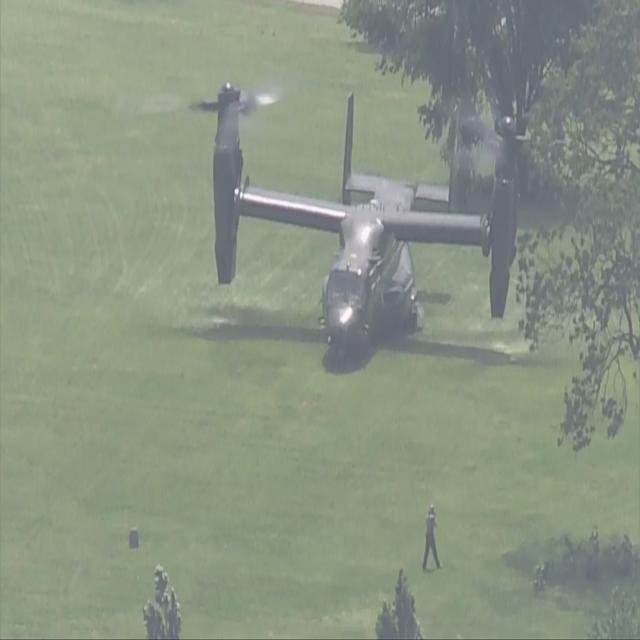MIL_Plane: (138, 78, 574, 369)
